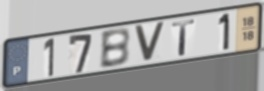1: (217, 12, 231, 52), (43, 36, 56, 78)
7: (68, 32, 93, 74)
B: (98, 26, 132, 71)
T: (171, 17, 198, 58)
V: (132, 21, 168, 63)
